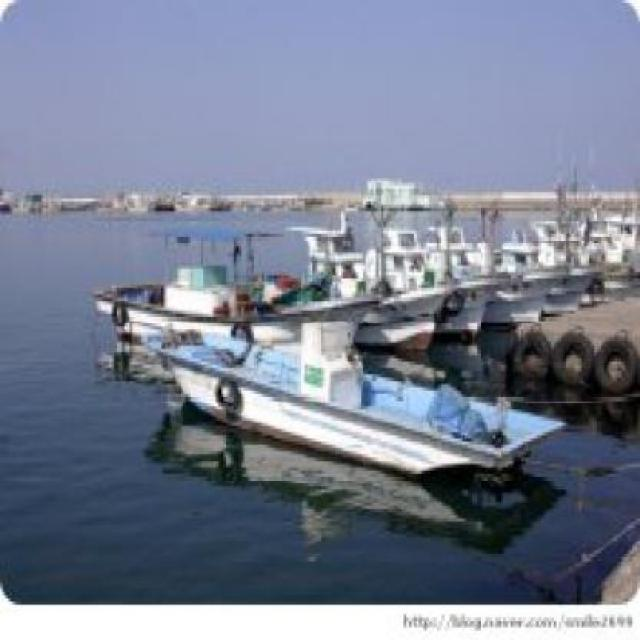fish-b: (149, 321, 590, 513)
